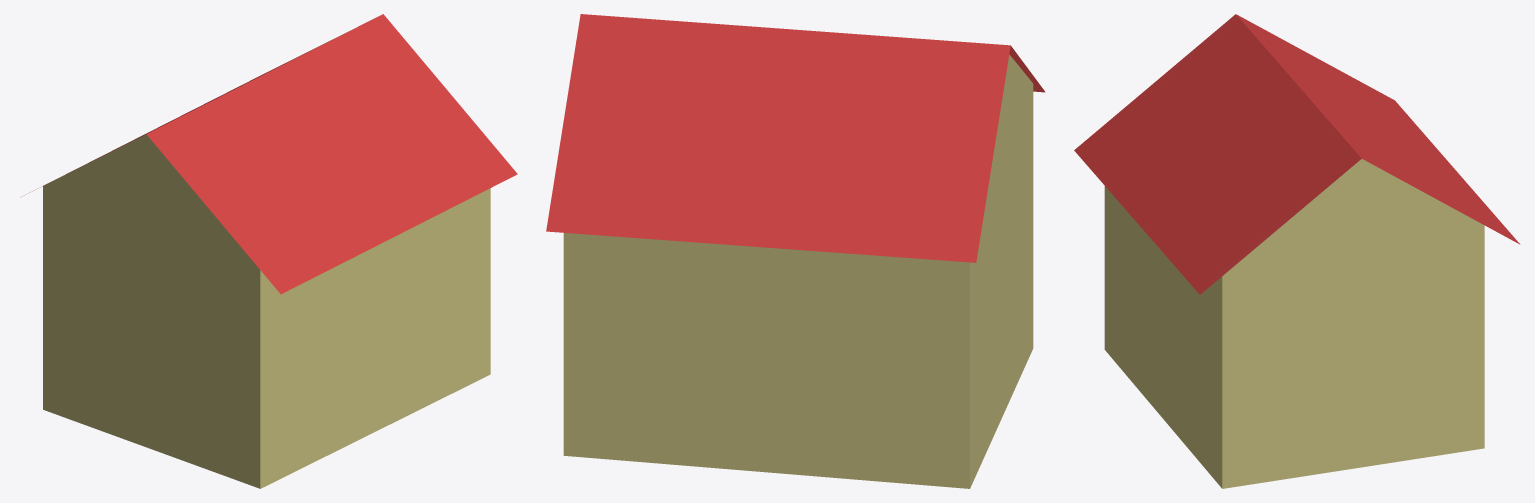
3 views of the same model, side by side, from view 1: azimuth 30°, elevation 25°; view 2: azimuth 150°, elevation 25°; view 3: azimuth 270°, elevation 25° (orthographic). The views are drawn at different scales.
Bounding box in the file's own units: 16.81 × 16.32 × 12.6.
